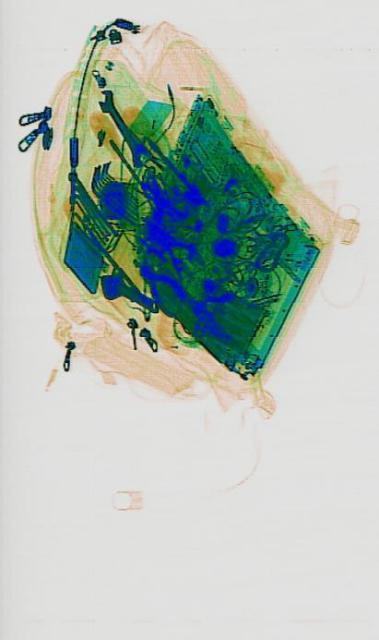Pliers: (133, 250, 185, 320)
Wrench: (92, 80, 149, 170)
